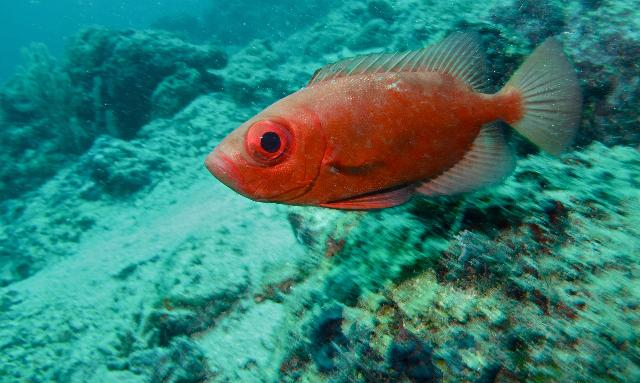Mulut: (188, 140, 250, 205)
Sirip Anal: (424, 122, 518, 194)
Sirip Dada: (322, 124, 376, 168)
Sirip Ekor: (508, 32, 582, 162)
Sirip Perut: (321, 184, 417, 214)
Sirip Punggung: (313, 21, 502, 97)
